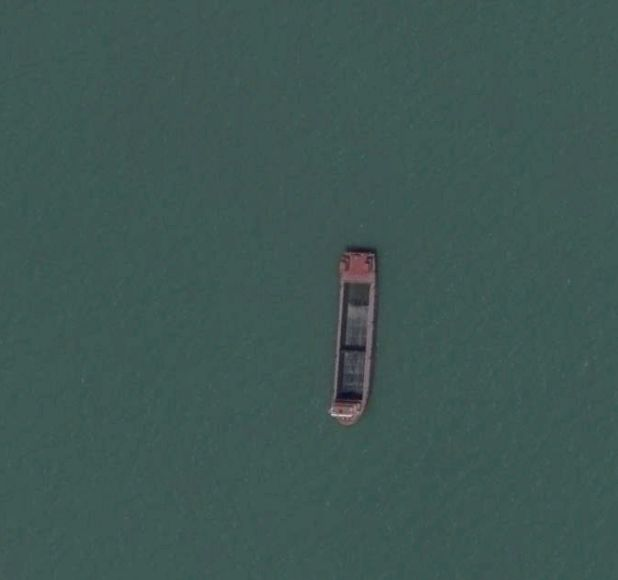boat: (328, 248, 381, 427)
